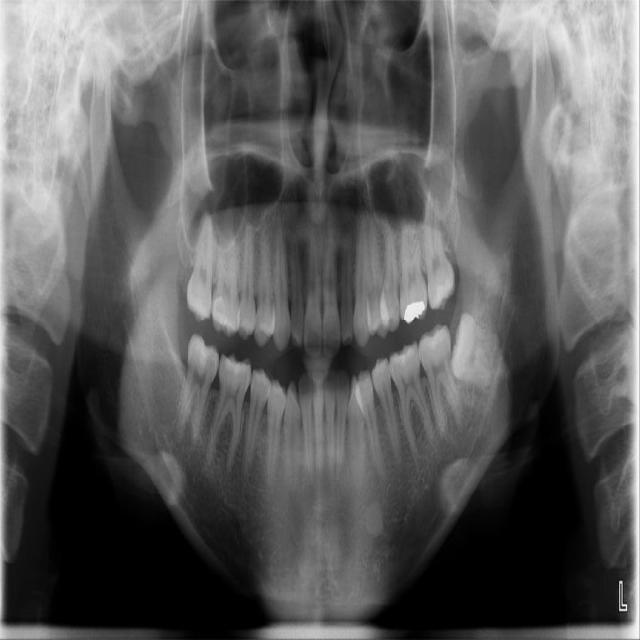Filling: (403, 300, 425, 320)
impacted tooth: (452, 312, 504, 391)
